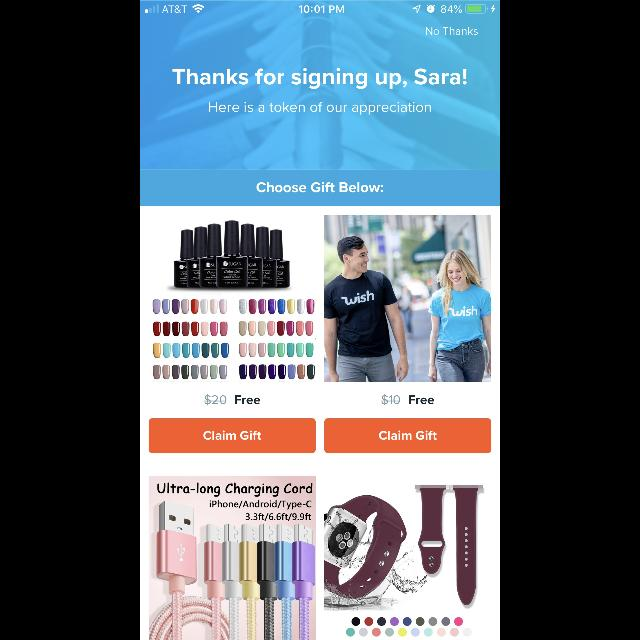image: (324, 215, 492, 381), (148, 476, 316, 640), (153, 220, 315, 380), (324, 485, 484, 637)
text: (172, 68, 468, 90), (209, 102, 431, 116), (256, 182, 384, 192), (426, 27, 478, 35), (204, 394, 226, 406), (381, 394, 401, 406), (410, 396, 434, 404), (236, 396, 260, 404)
textbutton: (324, 418, 492, 454), (148, 418, 316, 454)
uppertaskbar: (140, 0, 500, 14)
